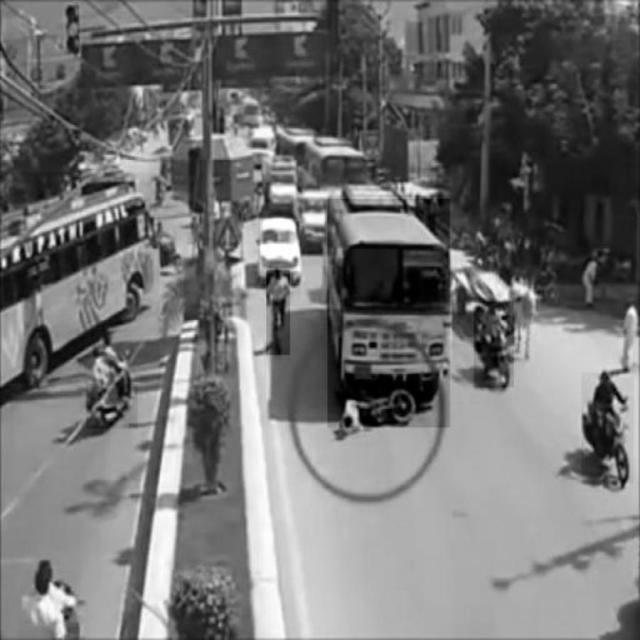accident: (328, 199, 450, 427)
person: (266, 271, 290, 355)
vehicle: (4, 173, 160, 384), (582, 373, 634, 484), (86, 331, 137, 429), (474, 301, 514, 387), (260, 219, 301, 283)
